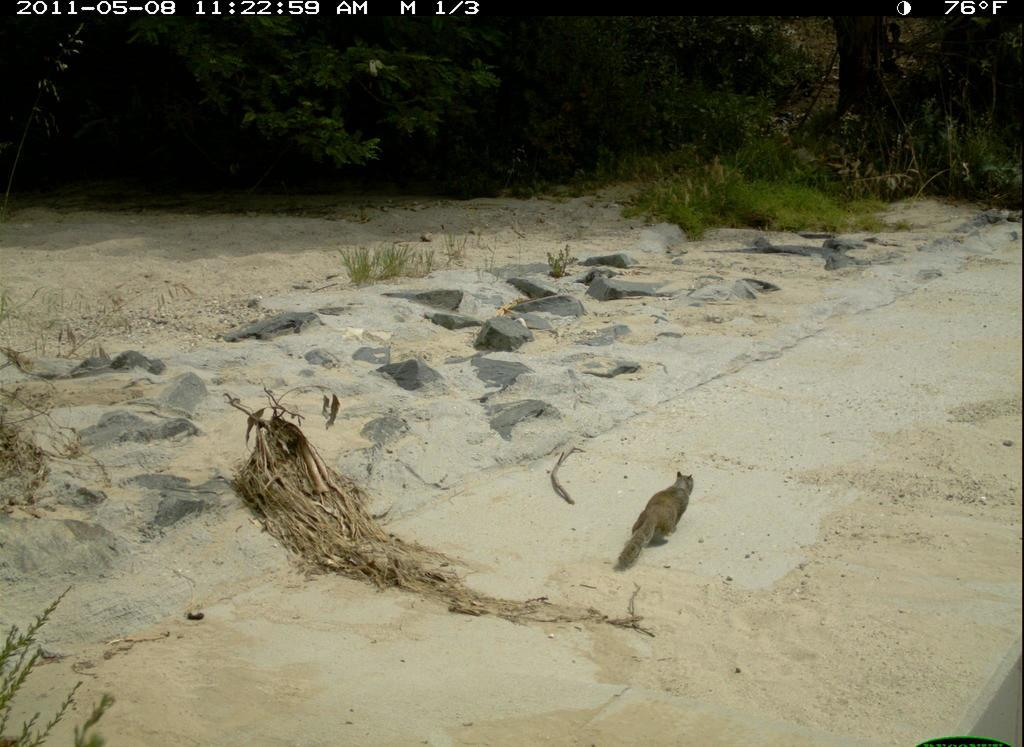squirrel: (603, 470, 702, 575)
